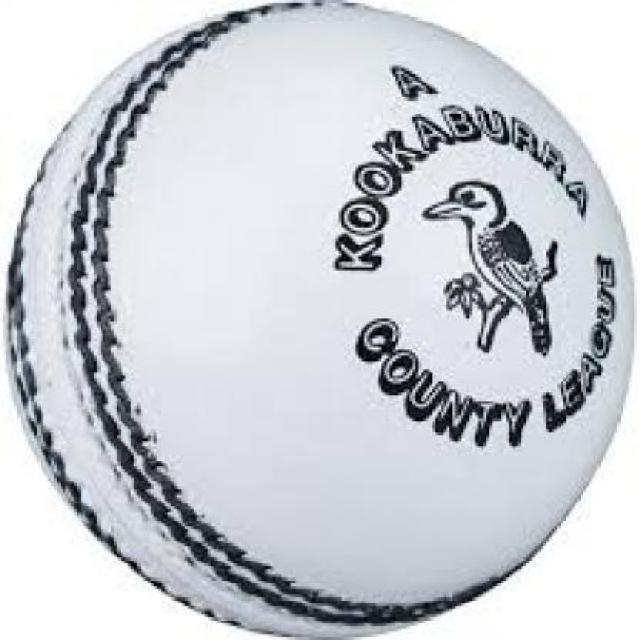-: (16, 23, 625, 626)
